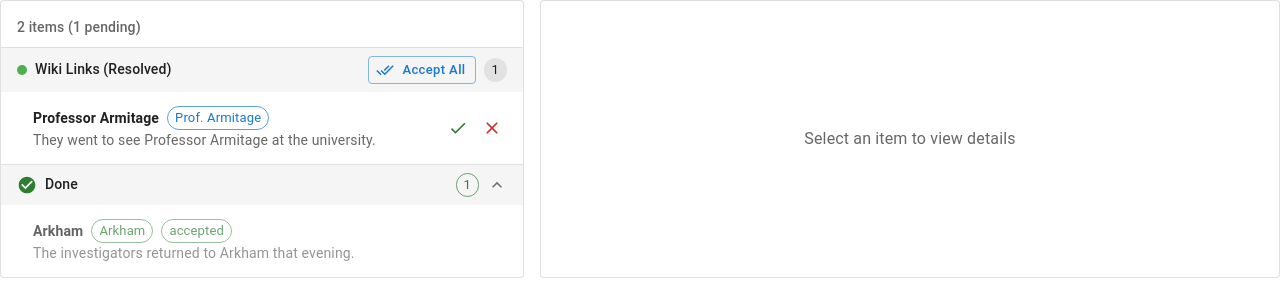
Test case: IdentifyPhasePage › allows clicking a resolved item in Done to view details
Note: Click the resolved item in the Done section
Click the 1st text "Arkham". click: (58, 231)
box: x1=33 y1=221 x2=83 y2=241
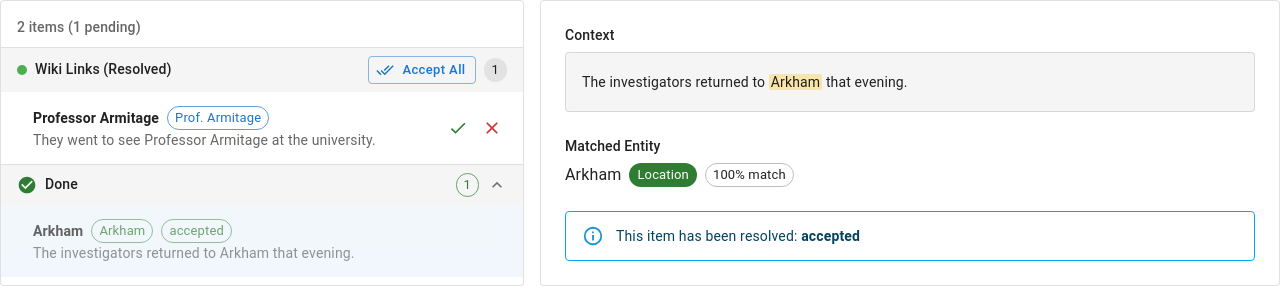
Check: the text "This item has been resolved: accepted" is shown, box x1=616 y1=228 x2=860 y2=244
